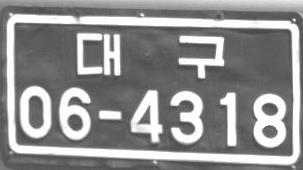0: (19, 83, 52, 138)
1: (213, 91, 245, 147)
3: (170, 89, 204, 146)
4: (130, 89, 163, 143)
6: (58, 85, 91, 141)
8: (252, 92, 287, 147)
대구_D: (75, 31, 225, 78)
